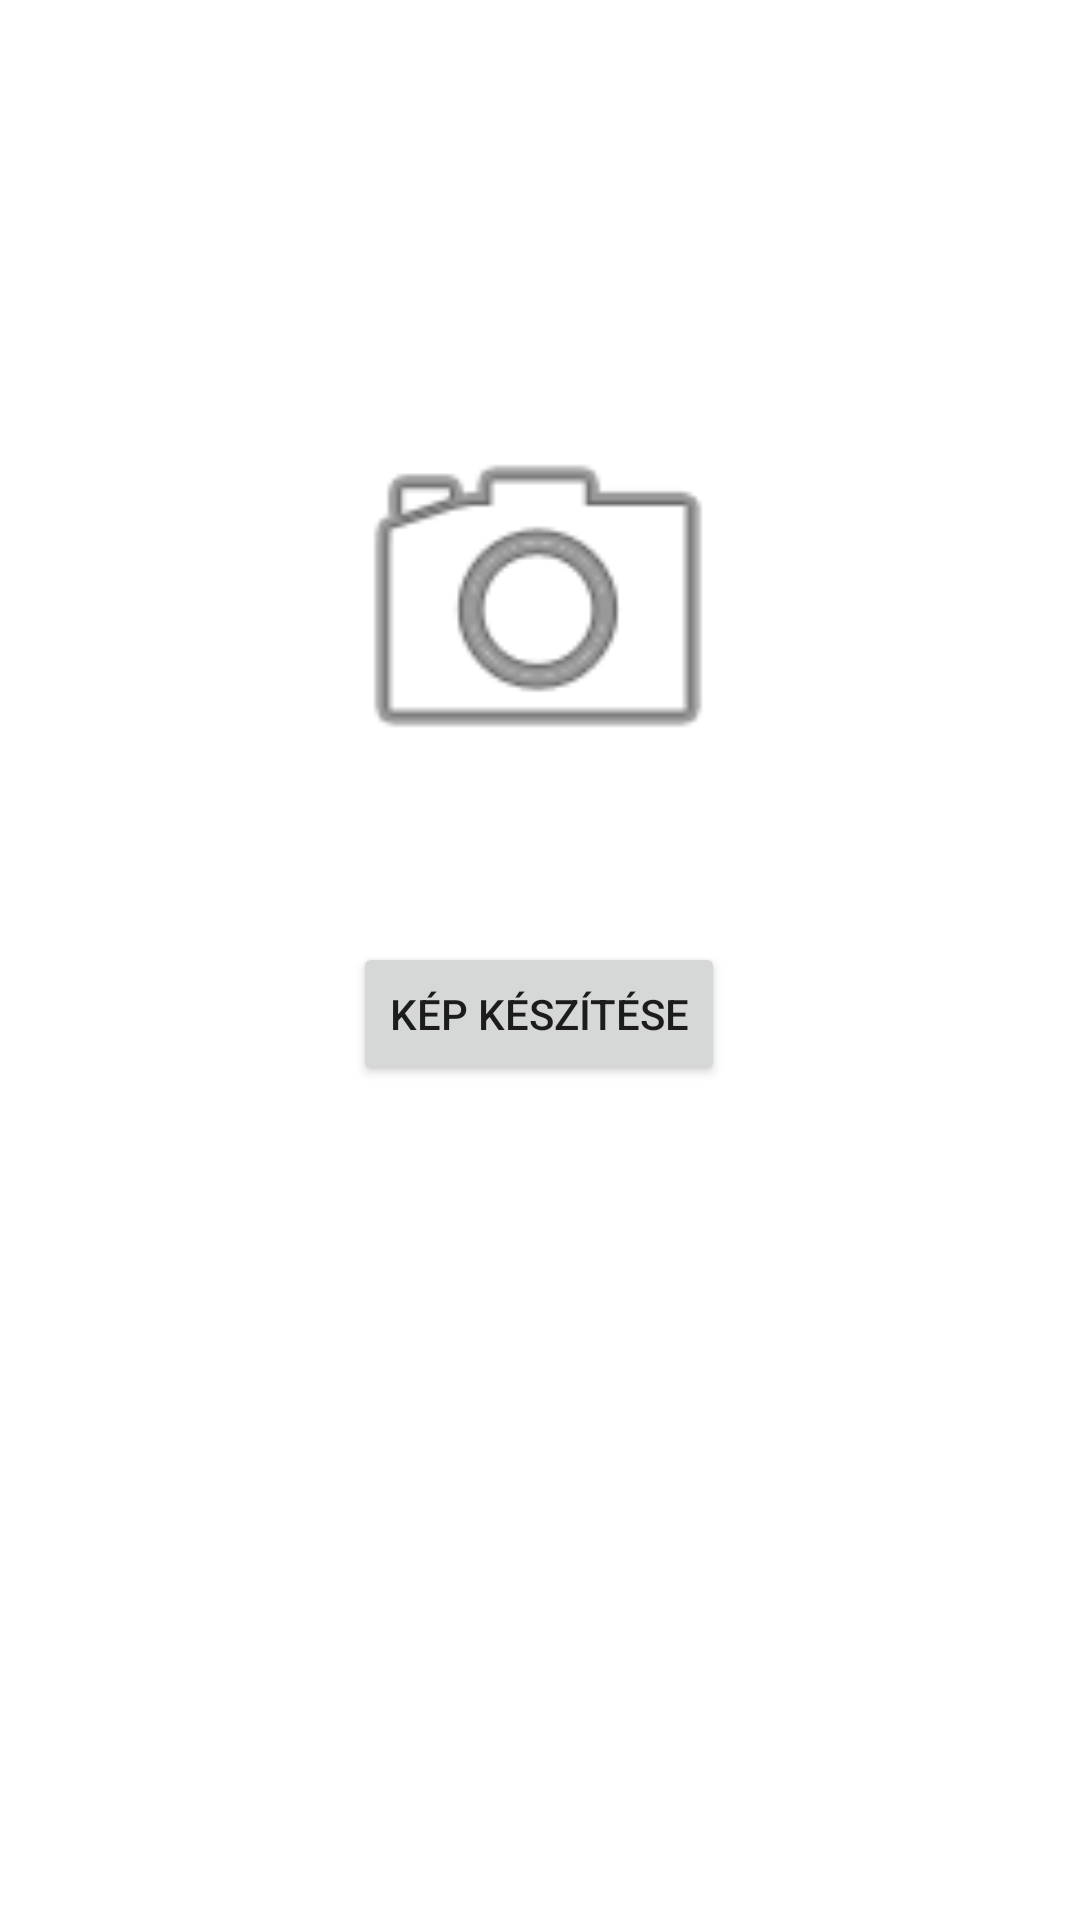

Screen size 1080w x 1920h. Icon name, then its center in pixels as point (x, y):
camera: point (538, 595)
